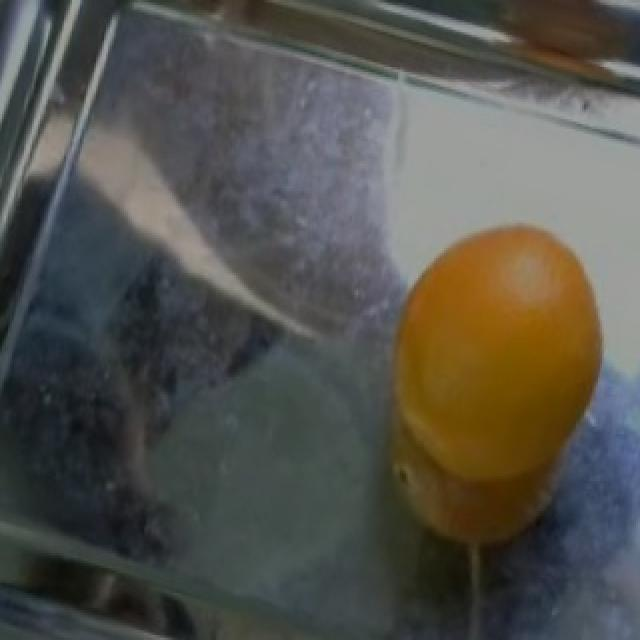Fruit: (362, 204, 628, 556)
